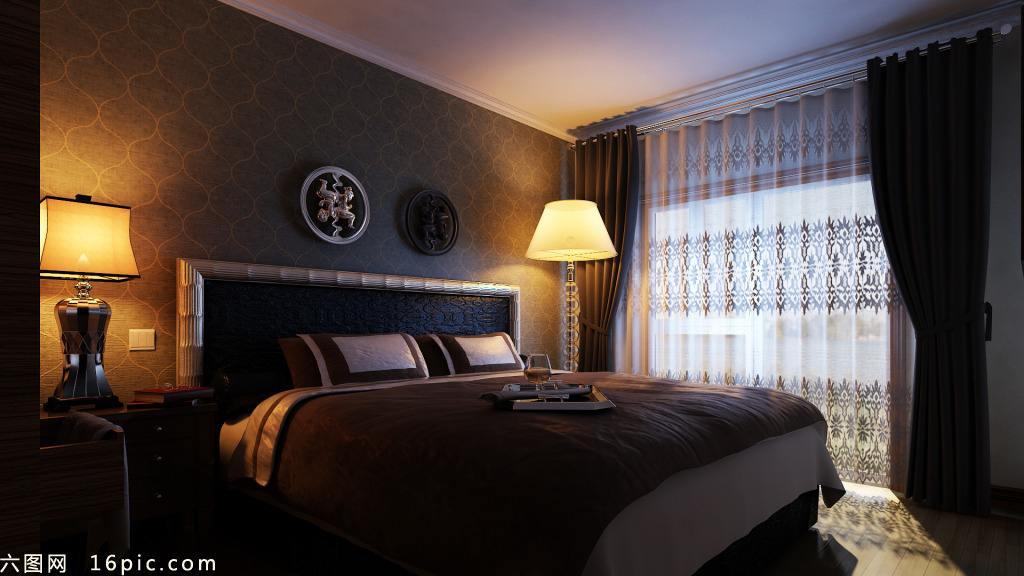床: (207, 376, 862, 570)
枕头: (284, 333, 532, 394)
灯: (33, 195, 136, 376), (527, 202, 620, 383)
